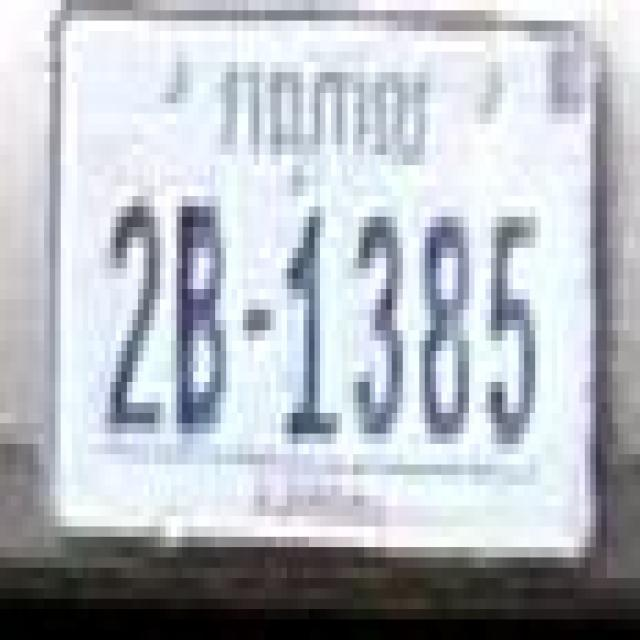Kandal: (215, 62, 428, 206)
